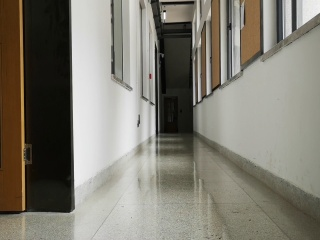room: (3, 3, 75, 218)
